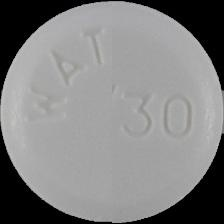54868-4607: (0, 0, 224, 224)
